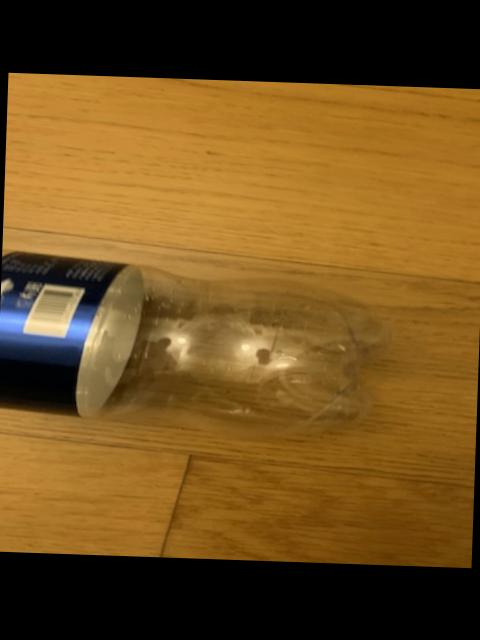plastic: (0, 253, 391, 433)
